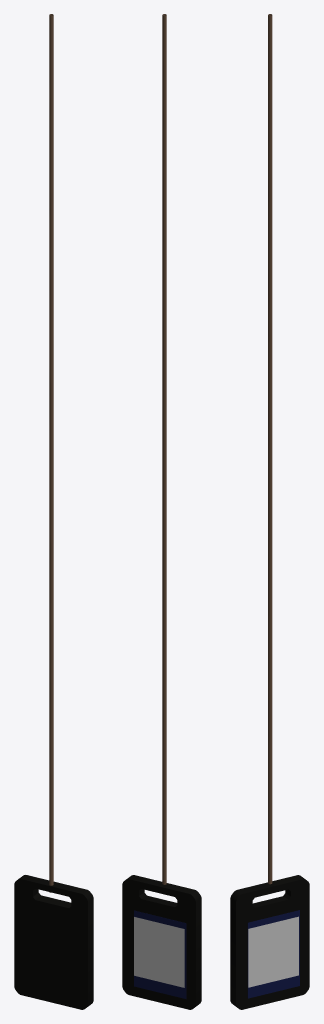
Rendered from switch.obj.
The picture shows the model from 3 angles, left to right: view 1: azimuth 30°, elevation 25°; view 2: azimuth 210°, elevation 25°; view 3: azimuth 270°, elevation 25°; orthographic projection.
Parts seen in each view (by area): view 1: Switch_tag_body, Switch_chain_color; view 2: Switch_tag_body, Switch_chain_color, Switch_dandelion-7494550_640, Switch_tag; view 3: Switch_tag_body, Switch_chain_color, Switch_dandelion-7494550_640, Switch_tag.
Boxes of the visible parts, x1,y1,x2,y2 form: Switch_tag_body: (14, 875, 93, 1009); Switch_chain_color: (49, 14, 53, 892); Switch_tag_body: (122, 875, 201, 1009); Switch_chain_color: (162, 14, 166, 884); Switch_dandelion-7494550_640: (134, 917, 184, 987); Switch_tag: (134, 910, 186, 998); Switch_tag_body: (230, 875, 309, 1009); Switch_chain_color: (268, 14, 272, 884); Switch_dandelion-7494550_640: (248, 916, 298, 987); Switch_tag: (247, 910, 299, 998).
Size of the model in its own units: 0.2461 by 5.13 by 0.3734.
